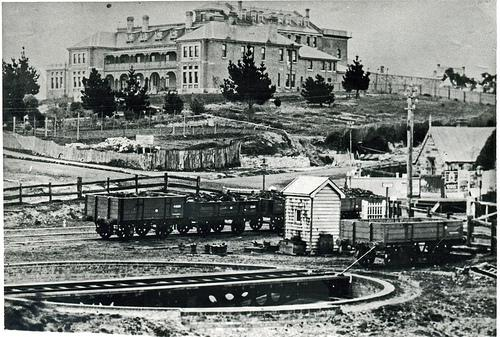Train: (85, 193, 286, 239)
